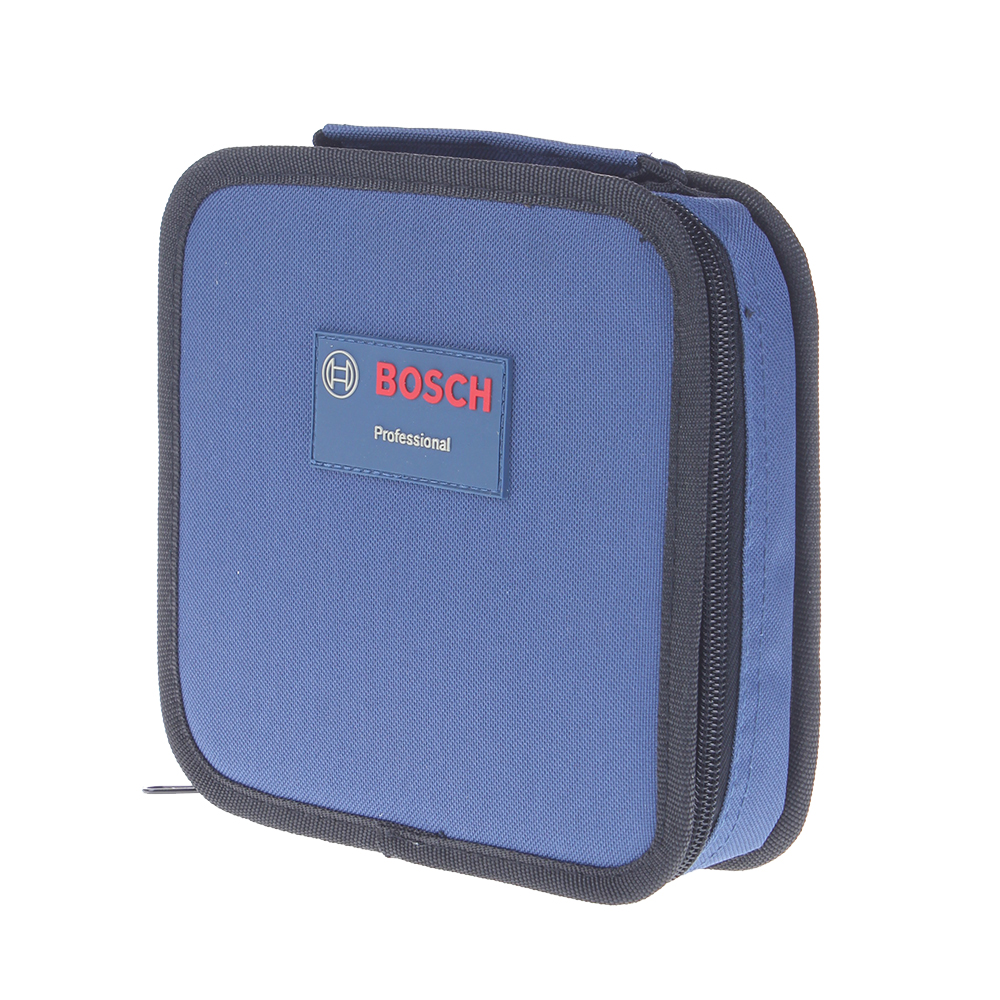Bosch: (368, 356, 498, 418)
